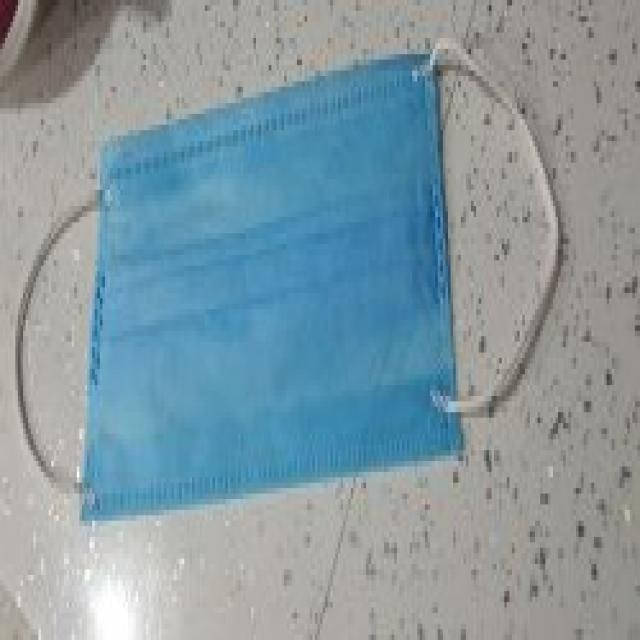non-organic waste: (15, 38, 566, 531)
